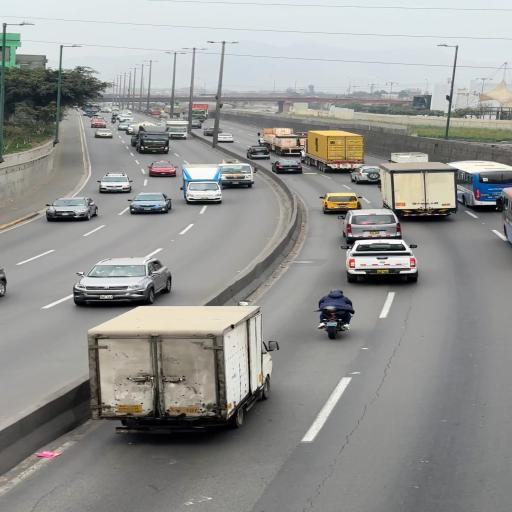auto: (73, 256, 172, 302), (342, 238, 417, 280), (340, 208, 402, 241), (44, 196, 98, 221), (129, 124, 171, 153), (217, 160, 255, 187), (127, 192, 173, 214), (182, 181, 224, 204), (320, 192, 363, 213), (497, 186, 512, 244), (97, 172, 133, 193), (158, 118, 190, 139), (349, 165, 381, 184), (270, 159, 303, 174), (147, 161, 178, 176), (246, 145, 272, 160), (203, 127, 227, 137), (90, 117, 107, 128), (94, 129, 114, 138), (118, 122, 134, 132), (189, 120, 203, 129)
bus: (464, 159, 504, 206)
camion: (86, 308, 261, 422), (377, 164, 460, 221), (307, 130, 364, 164), (180, 163, 222, 191), (262, 128, 300, 152), (273, 128, 293, 136)
moto: (316, 294, 357, 336)
